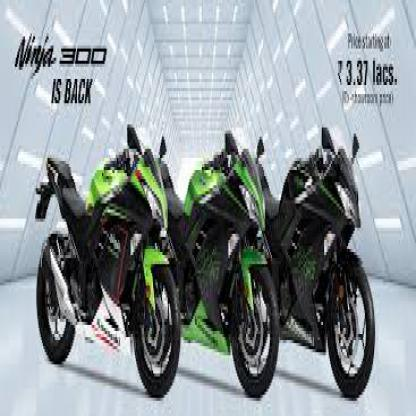Motorcycle: (34, 115, 183, 403), (163, 111, 281, 394), (276, 123, 379, 396)
